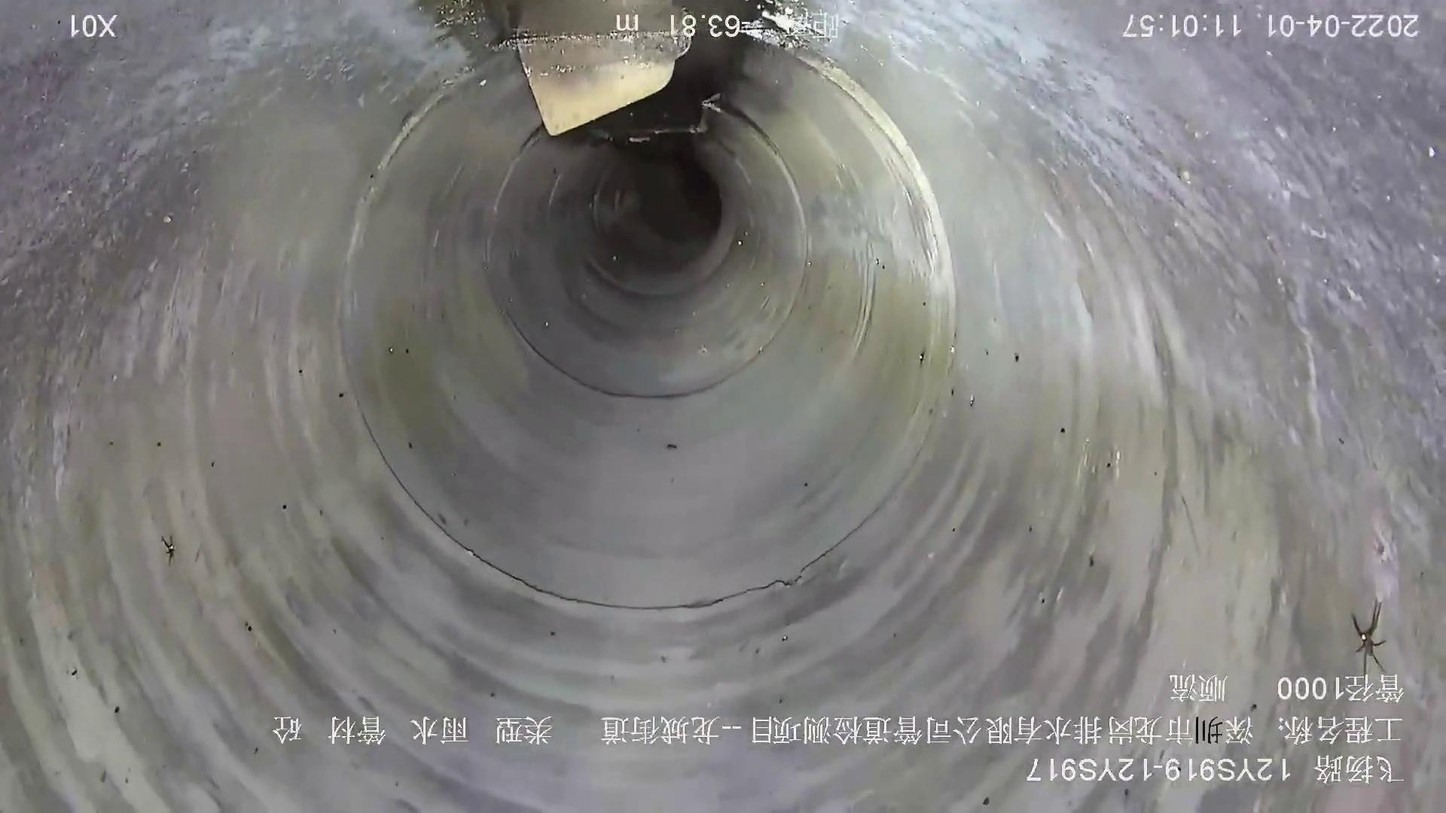ZAW: (511, 29, 691, 136)
